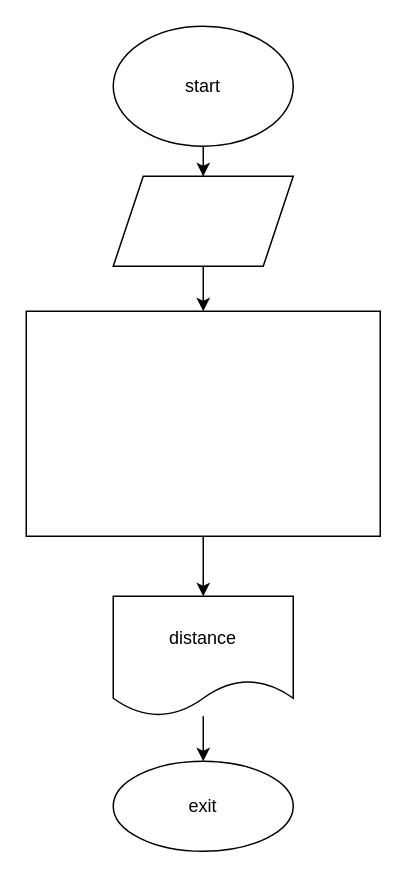
The diagram is 407 pixels wide and 878 high, and some of its shapes have lost their labels. The shapes that lost their labels are listed below. From the top down, each one's box as (x1, y1, x2, y2) in pixels, then its label:
(112, 175, 293, 266): (x1,y1,z1) (x2,y2,z2)
(25, 310, 380, 536): distance = sqrt (sqr(x2-x1)+sqr(y2-y1)+sqr(z2-z1))
